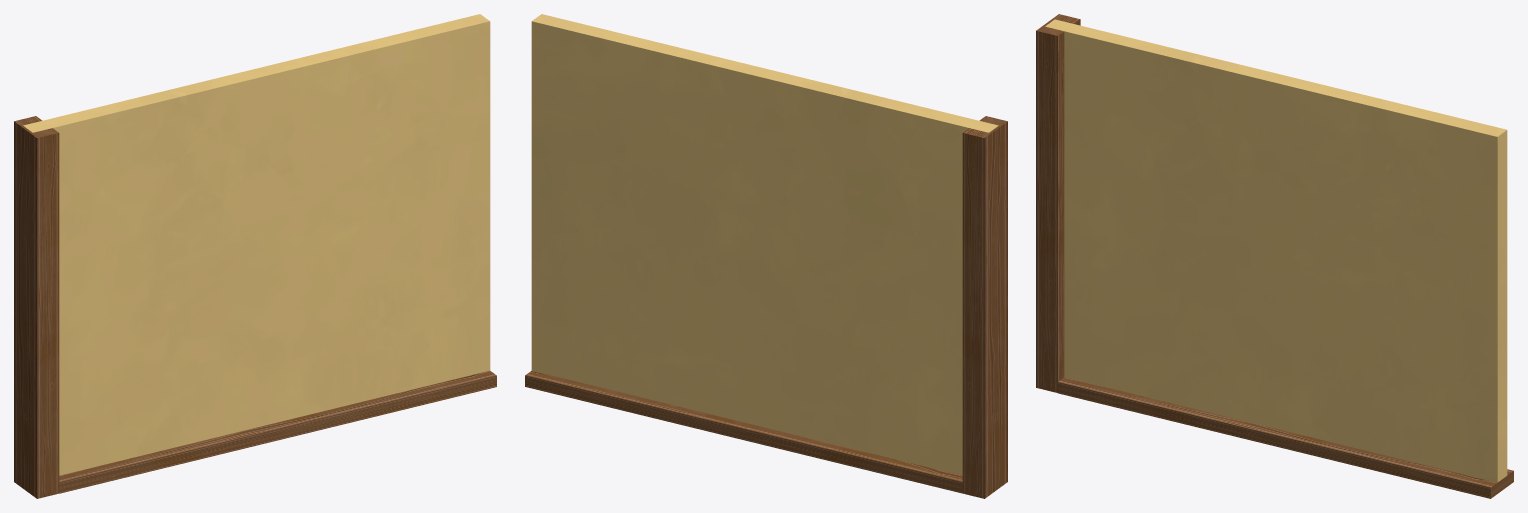
Rendered from SM_Large_Wall_03_wsand.glb.
3 views of the same model, side by side, from view 1: azimuth 30°, elevation 25°; view 2: azimuth 150°, elevation 25°; view 3: azimuth 330°, elevation 25° (orthographic).
Visible parts, largest first — view 1: SM_Large_Wall_03; view 2: SM_Large_Wall_03; view 3: SM_Large_Wall_03.
Part boxes in pixels (bbox=[...]): SM_Large_Wall_03: bbox=[14, 14, 496, 498]; SM_Large_Wall_03: bbox=[525, 14, 1007, 498]; SM_Large_Wall_03: bbox=[1036, 14, 1513, 498].
Bounding box in the file's own units: 4 × 3 × 0.3524.
2 materials, 2 textured.
